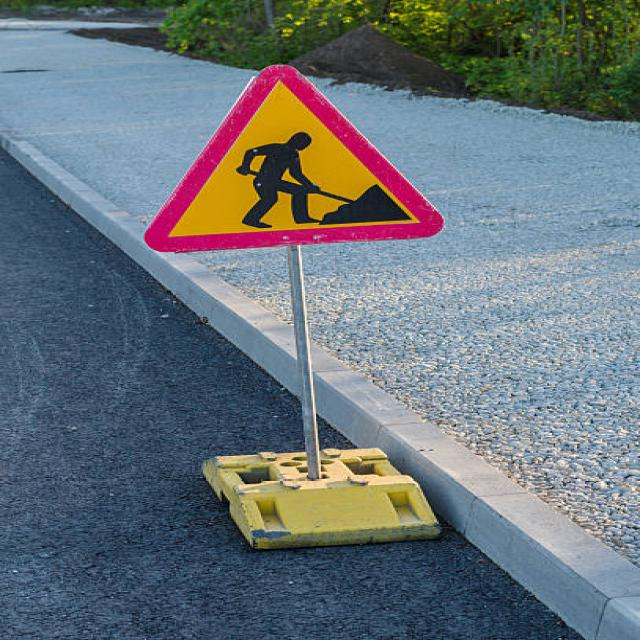road_work: (150, 59, 449, 247)
